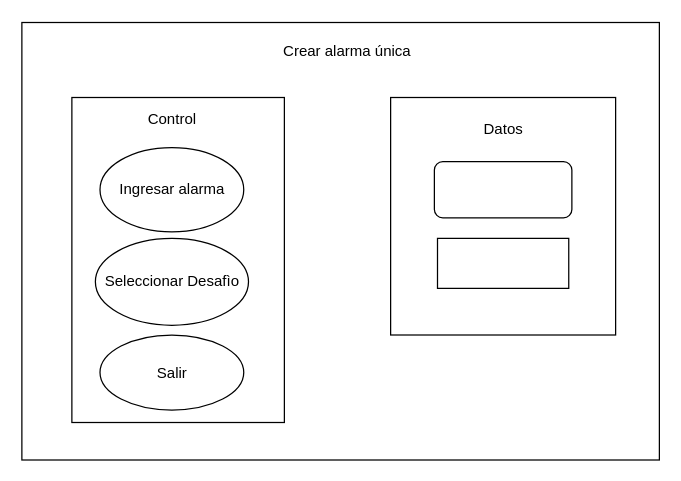
Image size: 681x481. Some labels were removed from this diagram. The shapes that lost their labels are listed below. From the top down, each one's centre as x and y in pixels, then its label:
At point (502, 189): "Hora".
At point (502, 262): "Desafìos".
